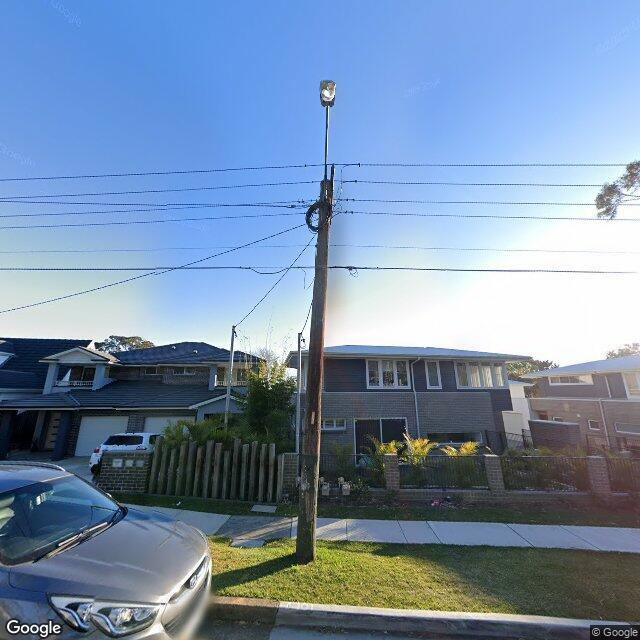crossarm: (328, 163, 335, 216)
steel-pole: (223, 326, 236, 433), (296, 331, 303, 478)
streetlight: (318, 79, 336, 204)
timber-pole: (296, 179, 331, 562)
